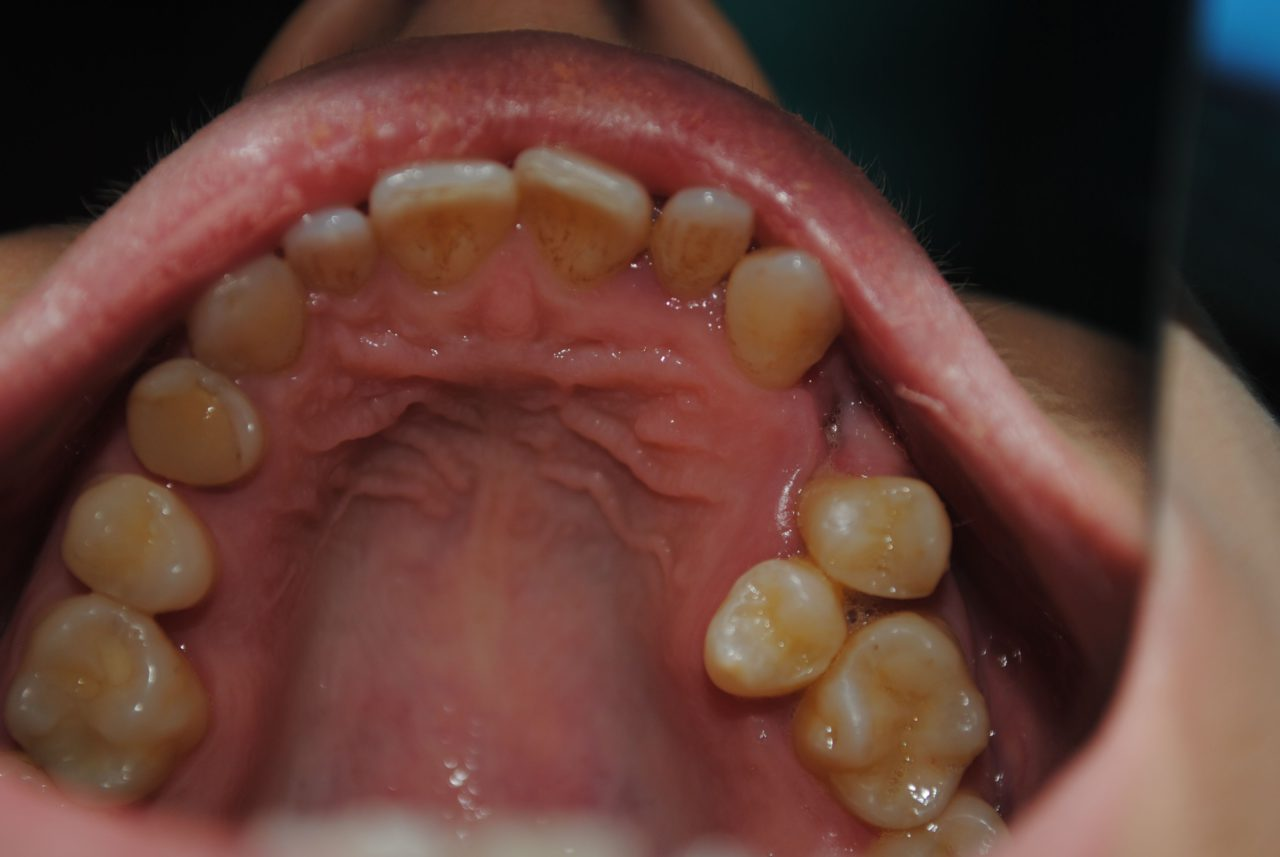UL1M_healthy: (814, 621, 991, 821)
UL2BC_healthy: (798, 477, 940, 572)
ULCI_decay: (520, 158, 645, 277)
ULC_healthy: (719, 276, 828, 368)
ULLI_decay: (654, 202, 740, 274)
UR1BC_healthy: (125, 359, 268, 486)
UR1M_healthy: (24, 594, 202, 801)
UR2BC_healthy: (68, 482, 216, 627)
URCI_decay: (381, 163, 525, 282)
URC_healthy: (203, 263, 316, 372)
URLI_decay: (295, 212, 382, 296)
